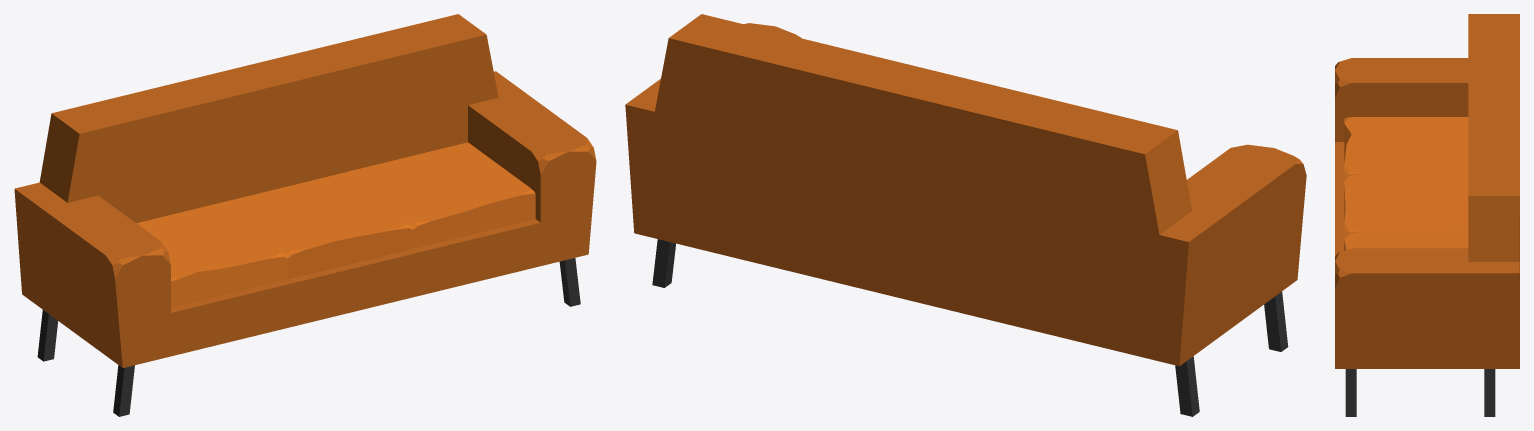
File: sofa-long.fbx
3 renders of one model, left to right at view 1: azimuth 30°, elevation 25°; view 2: azimuth 150°, elevation 25°; view 3: azimuth 270°, elevation 25°, orthographic. The views are drawn at different scales.
Visible parts, largest first — view 1: frame, cushion, cushion.001, cushion.002, leg, leg.003, leg.001; view 2: frame, leg.003, leg, leg.002; view 3: frame, cushion, cushion.002, cushion.001, leg.001, leg.002.
Boxes of the visible parts, bbox=[...] form: frame: bbox=[14, 14, 596, 367]; cushion: bbox=[221, 172, 413, 278]; cushion.001: bbox=[346, 142, 535, 247]; cushion.002: bbox=[137, 203, 287, 307]; leg: bbox=[113, 365, 134, 416]; leg.003: bbox=[37, 310, 57, 361]; leg.001: bbox=[559, 258, 580, 306]; frame: bbox=[625, 14, 1306, 366]; leg.003: bbox=[1175, 356, 1199, 416]; leg: bbox=[1264, 291, 1288, 351]; leg.002: bbox=[652, 239, 675, 287]; frame: bbox=[1335, 14, 1519, 368]; cushion: bbox=[1344, 171, 1468, 234]; cushion.002: bbox=[1344, 117, 1468, 176]; cushion.001: bbox=[1344, 228, 1468, 250]; leg.001: bbox=[1345, 369, 1356, 416]; leg.002: bbox=[1484, 369, 1495, 416].
Size of the model in its own units: 769 by 347 by 279.
